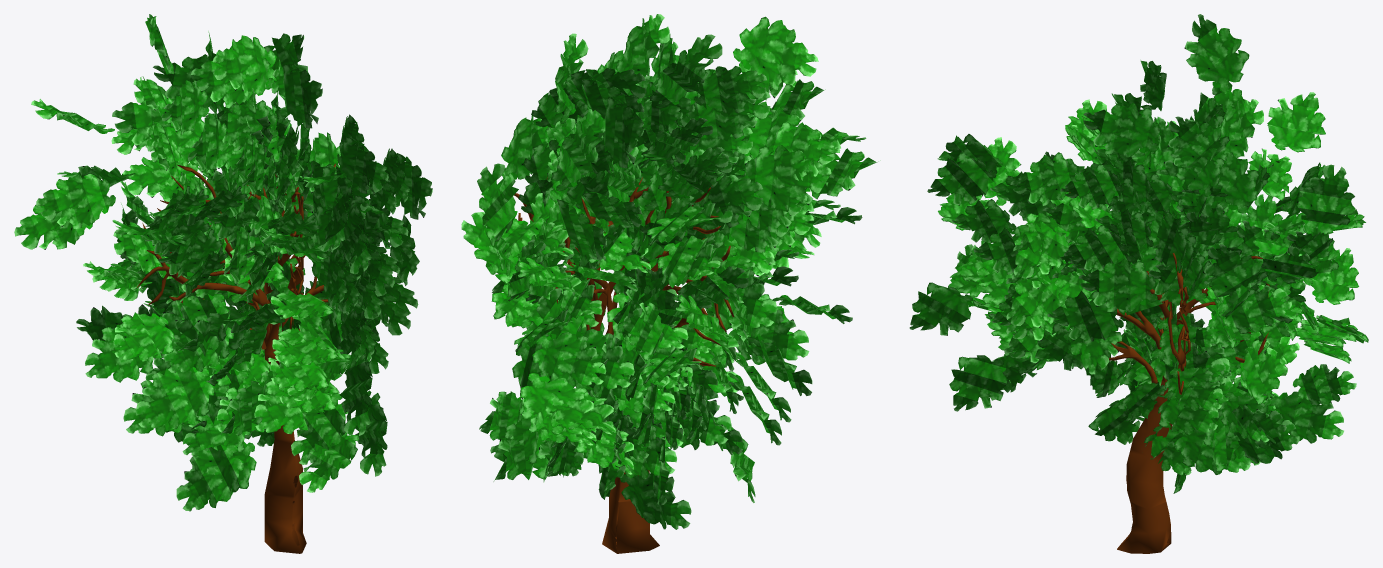
The model's file is tree7.fbx.
3 views of the same model, side by side, from view 1: azimuth 30°, elevation 25°; view 2: azimuth 150°, elevation 25°; view 3: azimuth 270°, elevation 25° (orthographic). The views are drawn at different scales.
Parts seen in each view (by area): view 1: c090c787-1d18-485c-aed2-695b9deaaf12|d2bc2ccb-dd17-4b76-b26a (×90), c090c787-1d18-485c-aed2-695b9deaaf12; view 2: c090c787-1d18-485c-aed2-695b9deaaf12|d2bc2ccb-dd17-4b76-b26a (×98), c090c787-1d18-485c-aed2-695b9deaaf12; view 3: c090c787-1d18-485c-aed2-695b9deaaf12|d2bc2ccb-dd17-4b76-b26a (×85), c090c787-1d18-485c-aed2-695b9deaaf12.
Boxes of the visible parts, left/top/right/bottom form: c090c787-1d18-485c-aed2-695b9deaaf12|d2bc2ccb-dd17-4b76-b26a (×90): left=14, top=14, right=432, bottom=511; c090c787-1d18-485c-aed2-695b9deaaf12: left=137, top=163, right=346, bottom=553; c090c787-1d18-485c-aed2-695b9deaaf12|d2bc2ccb-dd17-4b76-b26a (×98): left=461, top=14, right=880, bottom=529; c090c787-1d18-485c-aed2-695b9deaaf12: left=514, top=177, right=734, bottom=553; c090c787-1d18-485c-aed2-695b9deaaf12|d2bc2ccb-dd17-4b76-b26a (×85): left=909, top=14, right=1358, bottom=475; c090c787-1d18-485c-aed2-695b9deaaf12: left=1069, top=192, right=1269, bottom=553.
Bounding box in the file's own units: 79.47 × 126 × 108.
Materials: 2 (2 with a texture image).
